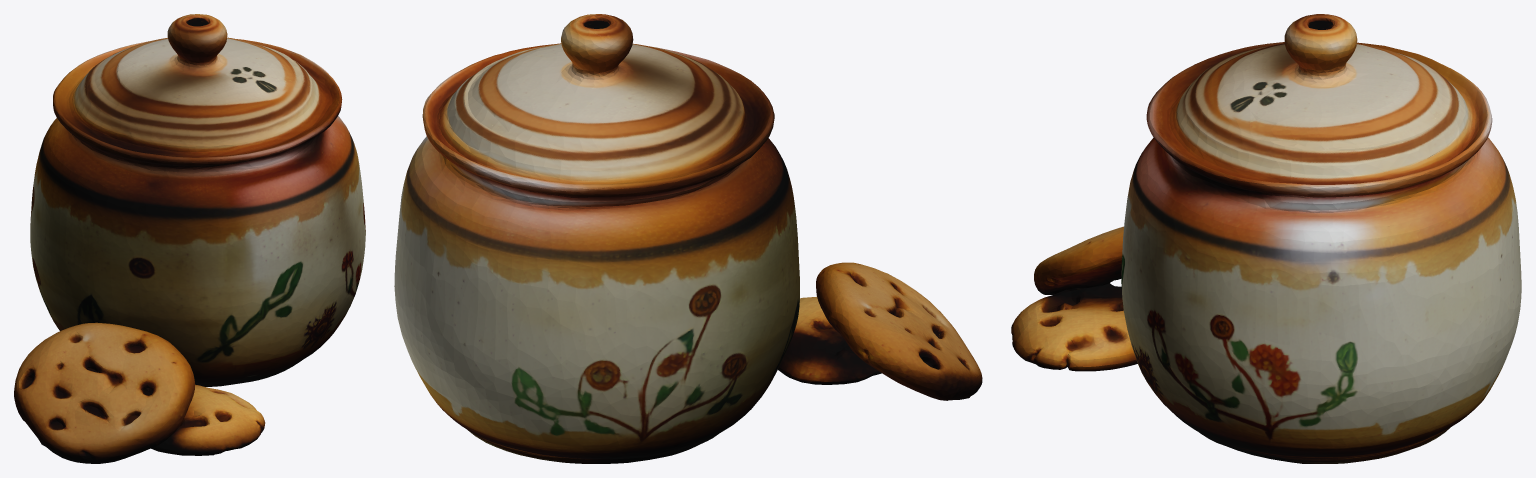
The model's file is ceramic-cookie-jar-used-rustic-worn.jpeg.glb.
3 views of the same model, side by side, from view 1: azimuth 30°, elevation 25°; view 2: azimuth 150°, elevation 25°; view 3: azimuth 270°, elevation 25° (orthographic). The views are drawn at different scales.
Parts seen in each view (by area): view 1: world; view 2: world; view 3: world.
Boxes of the visible parts, <box> form: world: <box>14,14,365,463</box>; world: <box>394,14,982,463</box>; world: <box>1011,14,1521,463</box>.
Size of the model in its own units: 0.9981 by 0.7971 by 0.9589.
Materials: 1 (1 with a texture image).
